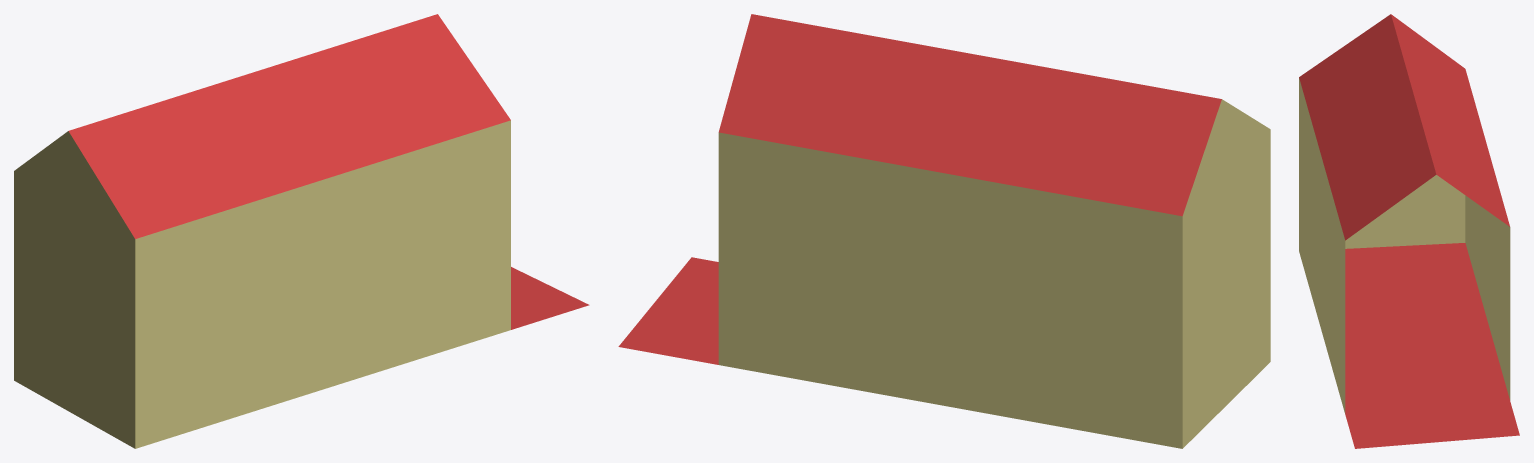
The picture shows the model from 3 angles, left to right: view 1: azimuth 30°, elevation 25°; view 2: azimuth 150°, elevation 25°; view 3: azimuth 270°, elevation 25°; orthographic projection. The views are drawn at different scales.
Size of the model in its own units: 10.02 by 4.54 by 5.27.
